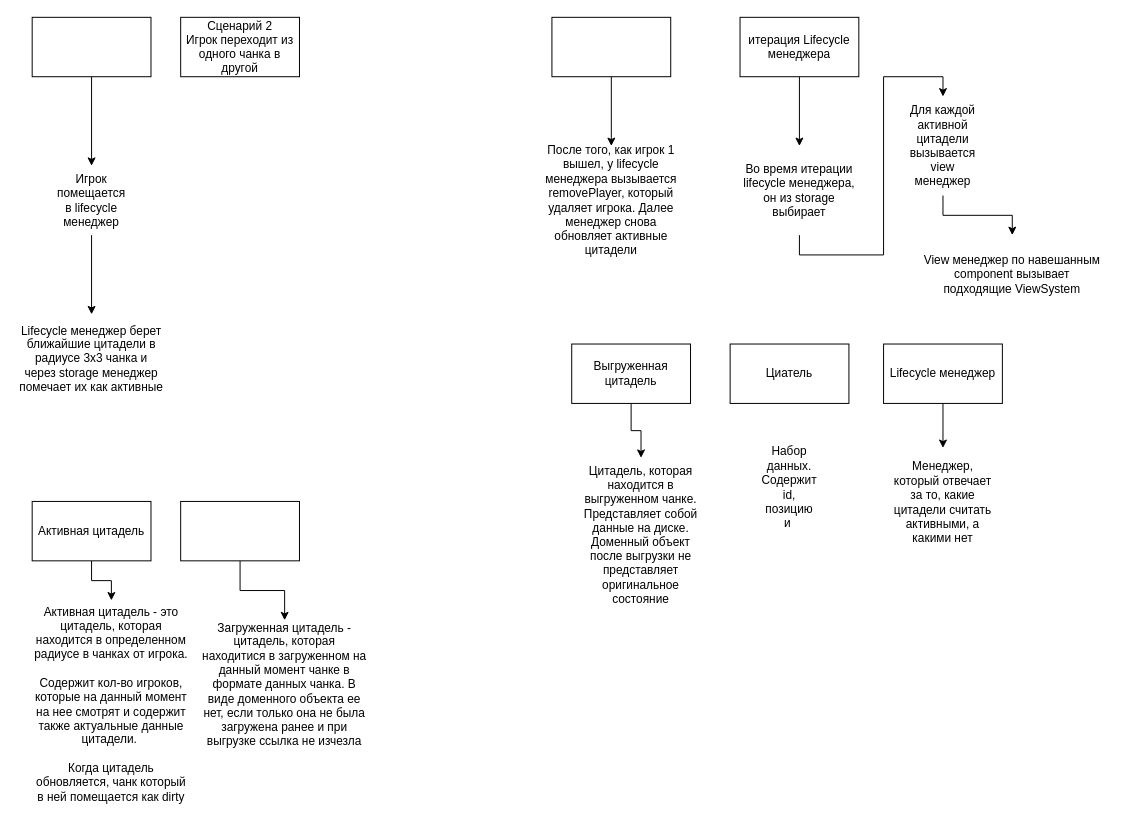
The diagram is 1123 pixels wide and 826 high, and some of its shapes have lost their labels. The centre of each missing label's shape, as x and y in pixels:
Загруженная цитадель: point (239, 530)
Сценарий 1 Игрок появляется в мире: point (91, 46)
Сценарий 3 Игрок 1 зашел рядом с игроком 2, а игрок 2 вышел: point (611, 46)
